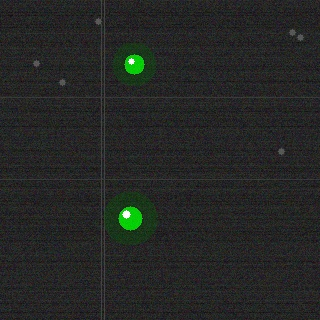green_normal: (116, 204, 144, 232), (122, 52, 146, 76)
